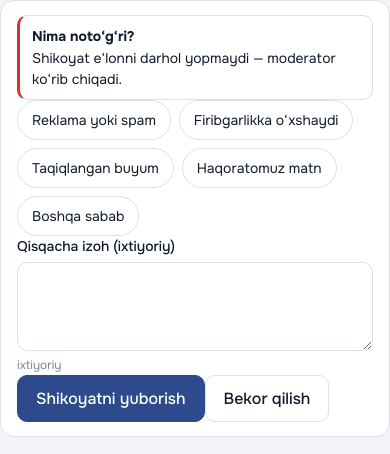
Test: ReportDialog › sabab tanlangach yuboriladi va tasdiq ko‘rsatiladi
The width and height of the screenshot is (390, 454).
Click the button "Taqiqlangan buyum": (95, 168) [17, 148, 174, 188]
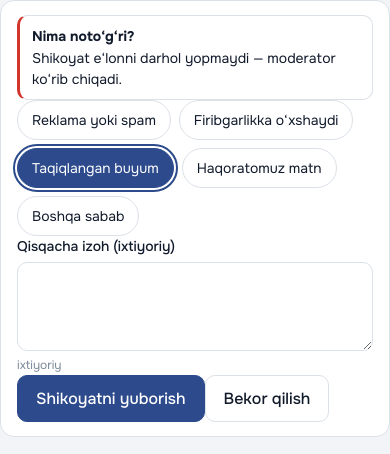
Click the button "Shikoyatni yuborish": (111, 398) [17, 375, 204, 422]
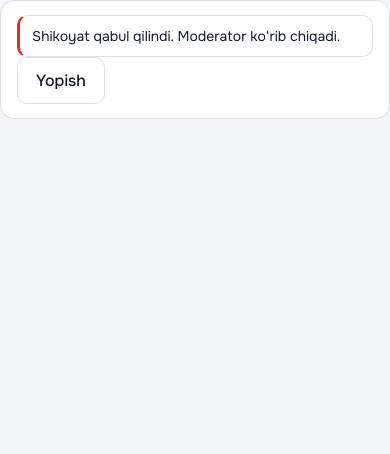
Expected: the text "Shikoyat qabul qilindi. Moderator ko‘rib chiqadi." is shown, [17, 15, 373, 57]
